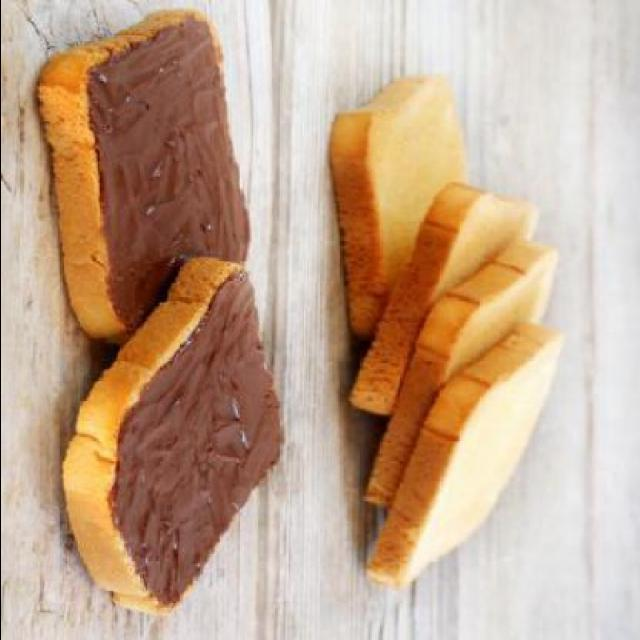Bread: (358, 320, 574, 602)
Spread: (97, 270, 281, 613), (88, 4, 252, 336)
